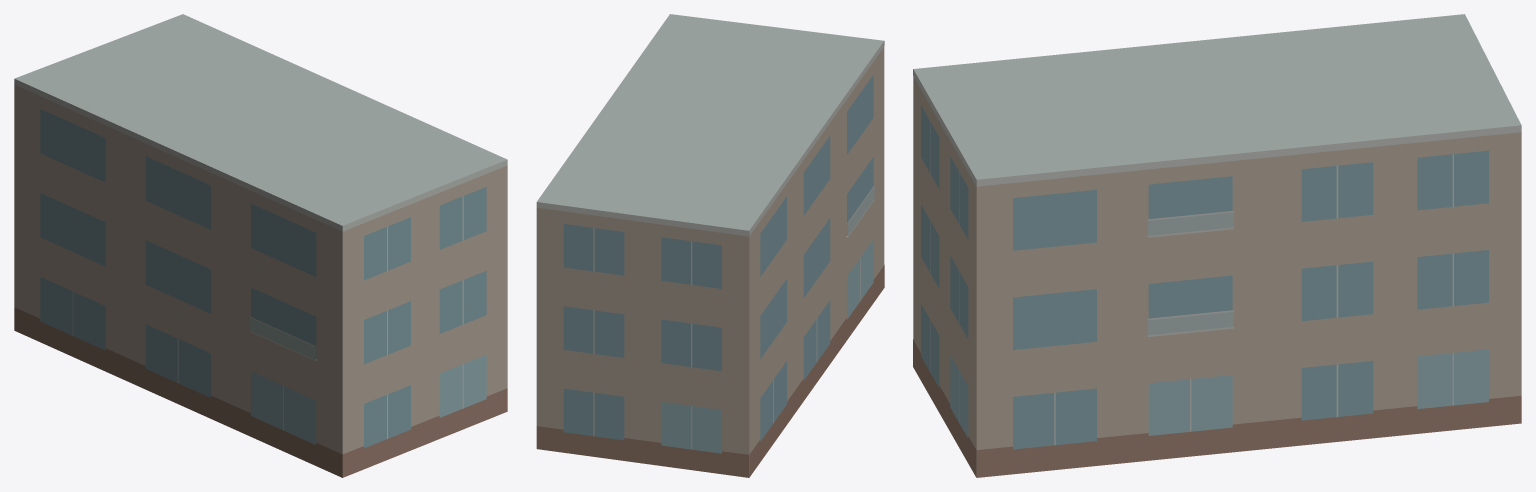
Rendered from survey-upis-32709146.glb.
The picture shows the model from 3 angles, left to right: view 1: azimuth 30°, elevation 25°; view 2: azimuth 150°, elevation 25°; view 3: azimuth 270°, elevation 25°; orthographic projection. The views are drawn at different scales.
Visible parts, largest first — view 1: survey-upis-32709146.tmp; view 2: survey-upis-32709146.tmp; view 3: survey-upis-32709146.tmp.
Boxes of the visible parts, x1,y1,x2,y2 form: survey-upis-32709146.tmp: (14, 14, 507, 477); survey-upis-32709146.tmp: (536, 14, 884, 477); survey-upis-32709146.tmp: (913, 14, 1521, 477).
Bounding box in the file's own units: 12.65 × 10.6 × 19.62.
